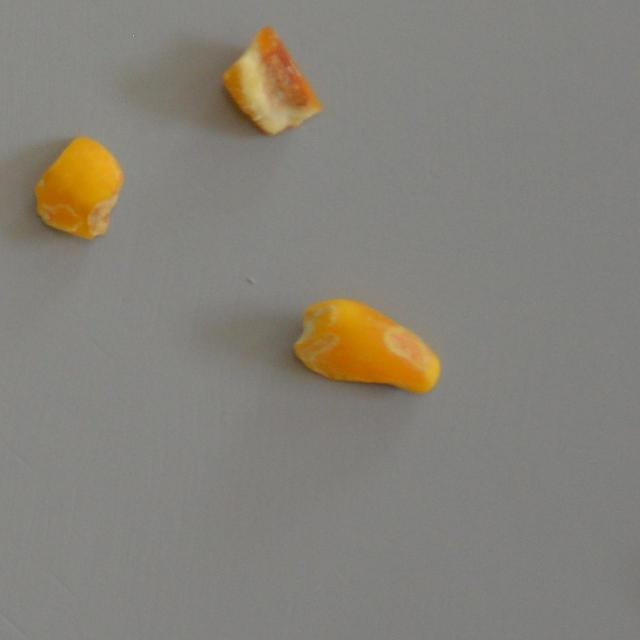dañado: (286, 292, 445, 398), (218, 23, 324, 140), (30, 132, 128, 242)
